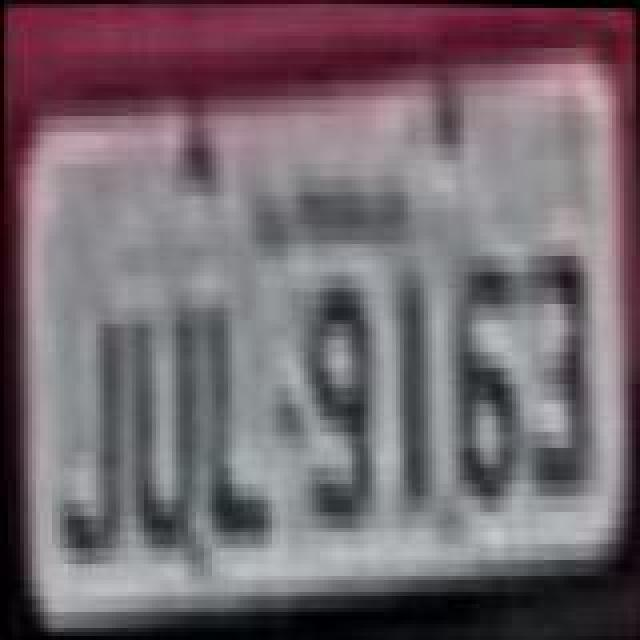1: (382, 278, 434, 514)
3: (518, 252, 598, 500)
6: (440, 254, 528, 506)
9: (298, 278, 382, 542)
J: (52, 320, 132, 568)
L: (188, 298, 276, 550)
U: (120, 308, 208, 560)
